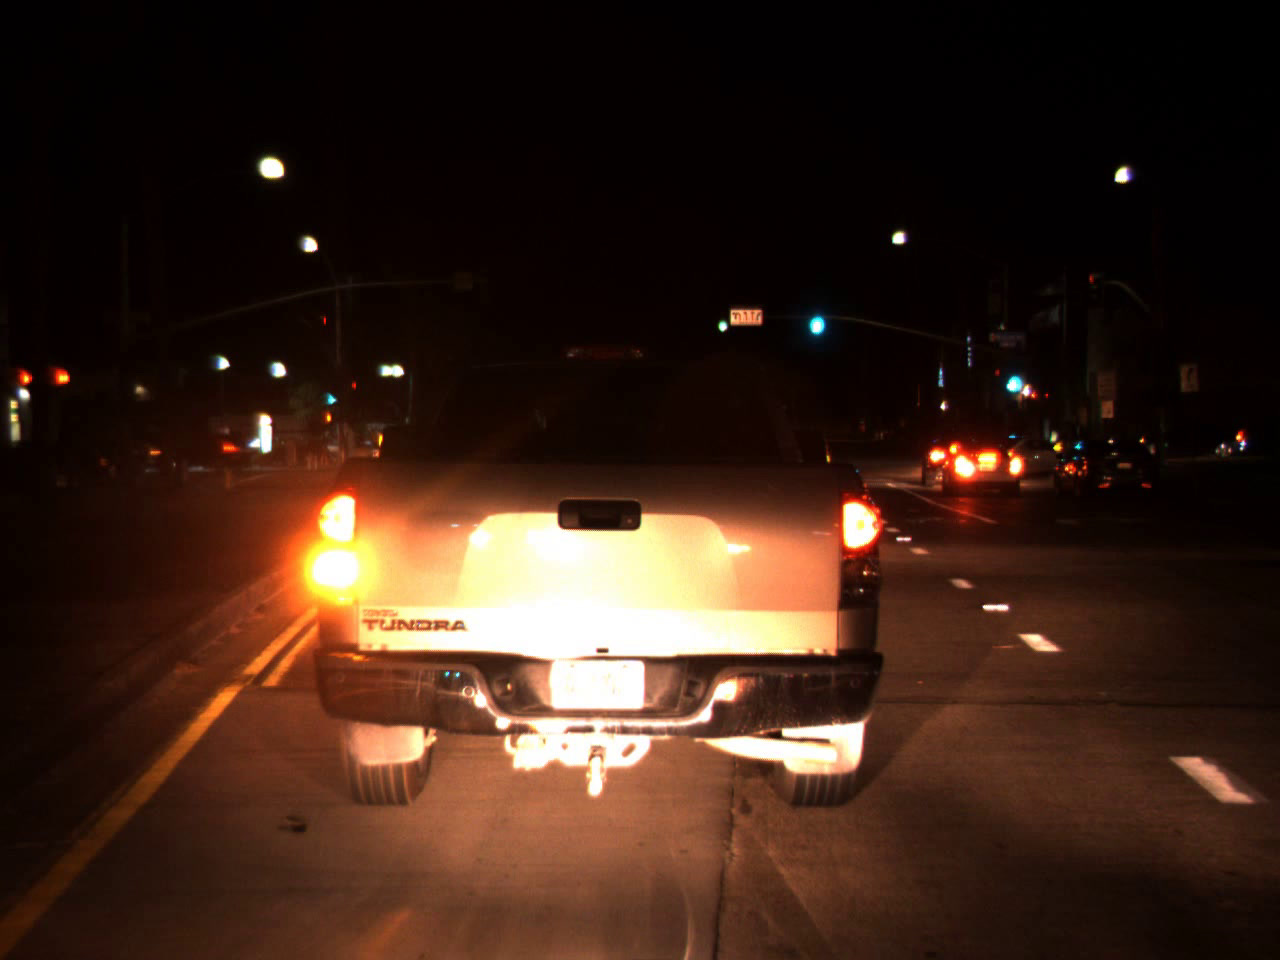go: (803, 294, 828, 342), (997, 357, 1027, 396), (321, 378, 340, 408), (715, 308, 729, 335)
